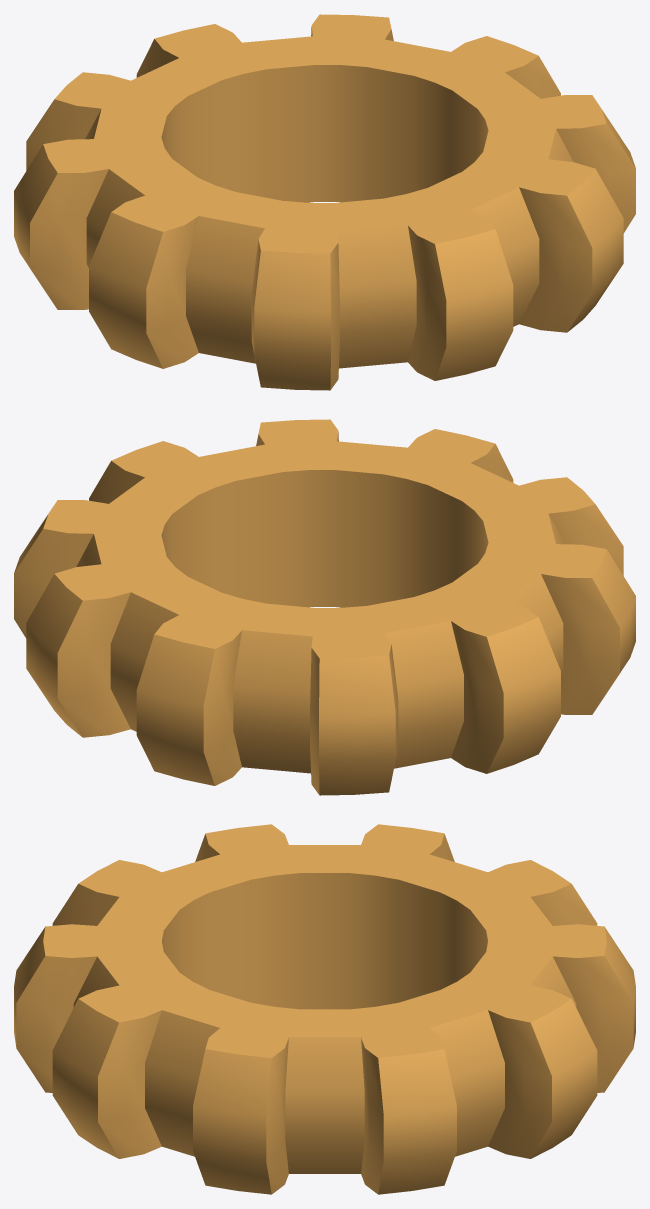
Rendered from Gear_10P_01.fbx.
3 renders of one model, top to bottom at view 1: azimuth 30°, elevation 25°; view 2: azimuth 150°, elevation 25°; view 3: azimuth 270°, elevation 25°, orthographic.
Parts seen in each view (by area): view 1: Gear_10P_01; view 2: Gear_10P_01; view 3: Gear_10P_01.
Part boxes in pixels (box(x1,y1,x2,y2)): Gear_10P_01: box(14, 14, 635, 390); Gear_10P_01: box(14, 419, 635, 795); Gear_10P_01: box(14, 824, 635, 1194).
Size of the model in its own units: 405 by 100 by 413.
